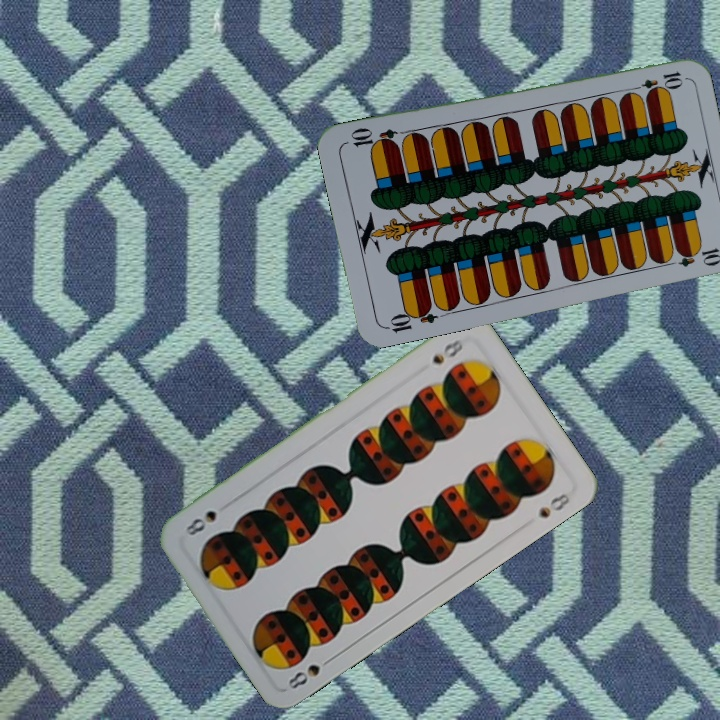E10: (381, 301, 439, 335), (626, 67, 685, 96)
S8: (283, 652, 337, 692), (427, 334, 466, 367)
